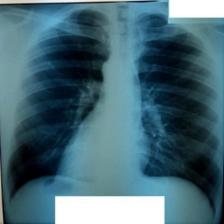tuberculosis: (3, 5, 224, 224)
